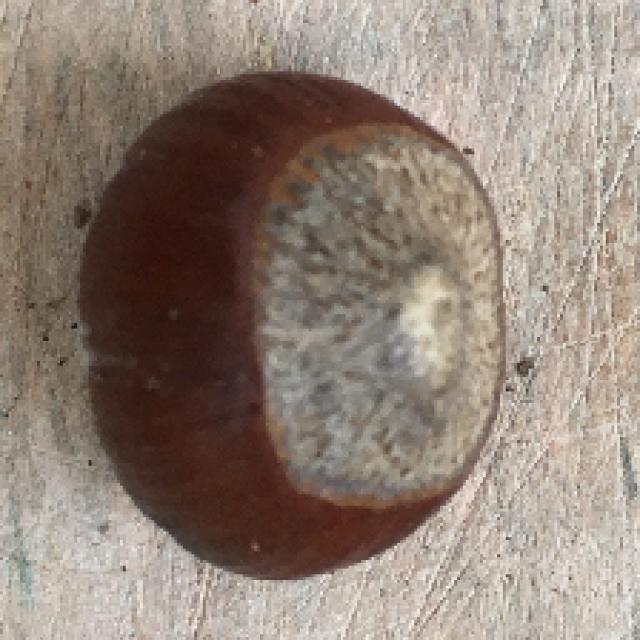qualityHazelnut: (64, 67, 512, 588)
